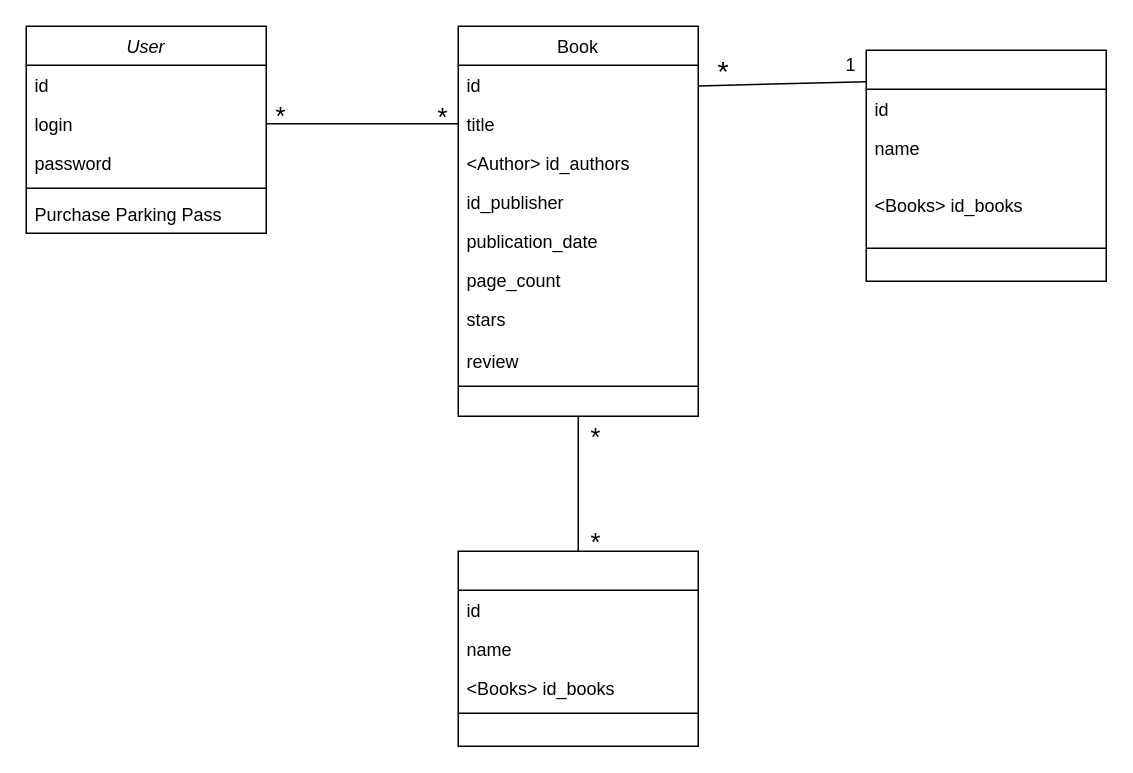
This 1133x773 diagram has some shape labels left out. Here are the shapes that lost their labels. From the top down, the box of each, then its label:
(865, 49, 1106, 281): publisher
(457, 550, 698, 746): Author
